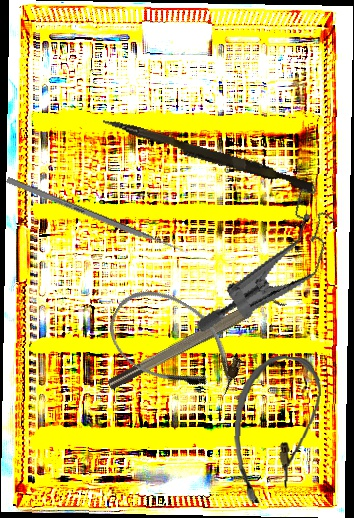Cannula: (96, 274, 255, 414), (229, 353, 324, 507)
Fixation Ring: (101, 281, 287, 394)
Pusher: (100, 117, 315, 193), (5, 176, 190, 257)
Speculum: (192, 161, 348, 362)
